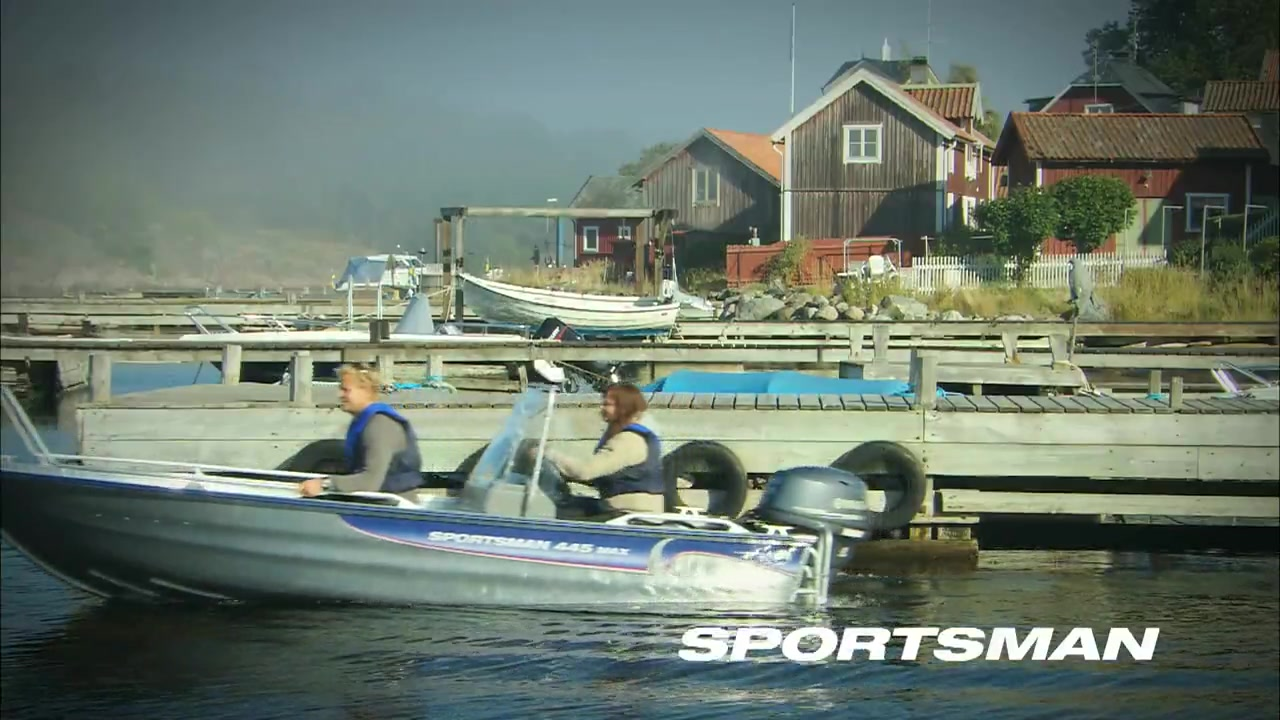boat: (2, 377, 878, 629)
